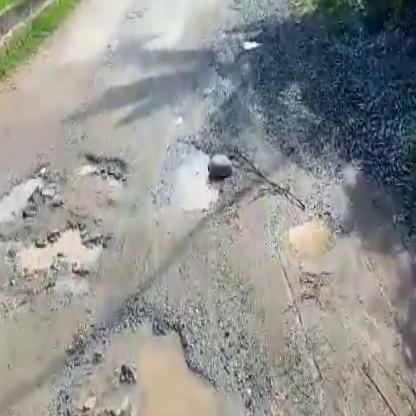pothole: (57, 309, 234, 416), (7, 221, 113, 281), (0, 163, 64, 234), (162, 142, 222, 217), (286, 211, 334, 258), (80, 147, 130, 184)
